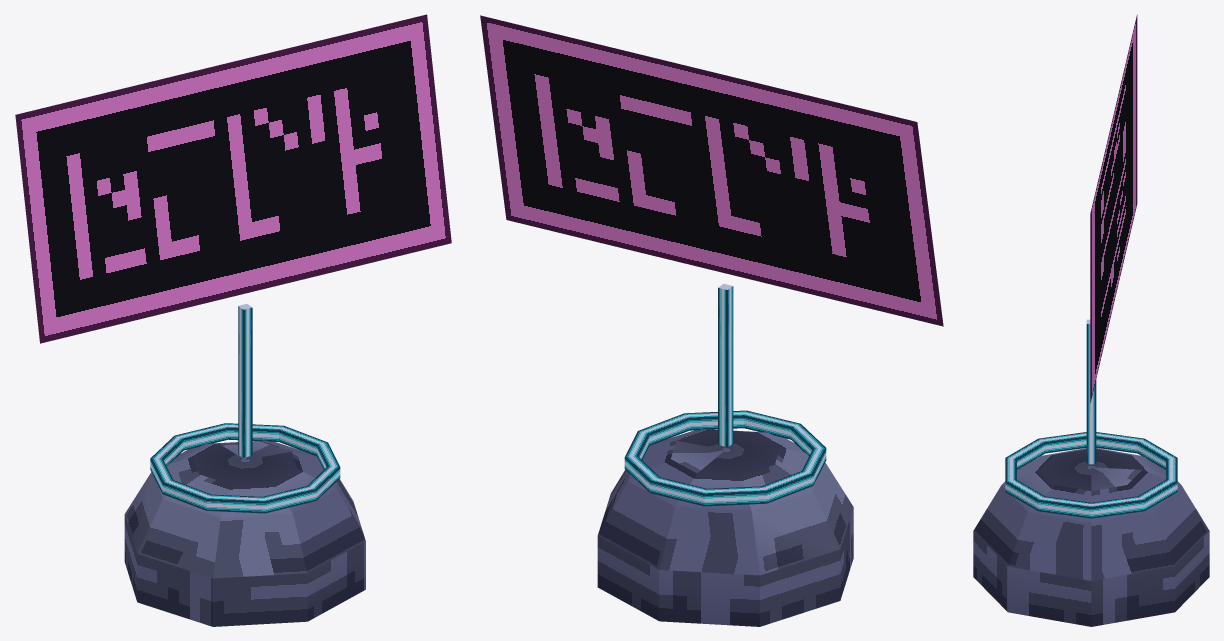
The model's file is cysign.holo.glb.
3 renders of one model, left to right at view 1: azimuth 30°, elevation 25°; view 2: azimuth 150°, elevation 25°; view 3: azimuth 270°, elevation 25°, orthographic. The views are drawn at different scales.
Parts seen in each view (by area): view 1: kit_card_card, kit_projector, kit_shaft; view 2: kit_card_card, kit_projector, kit_shaft; view 3: kit_projector, kit_card_card, kit_shaft.
Boxes of the visible parts, x1=… form: kit_card_card: x1=15, y1=14, x2=451, y2=343; kit_projector: x1=124, y1=440, x2=365, y2=626; kit_shaft: x1=150, y1=304, x2=340, y2=513; kit_card_card: x1=480, y1=15, x2=943, y2=326; kit_projector: x1=597, y1=429, x2=853, y2=626; kit_shaft: x1=624, y1=283, x2=826, y2=506; kit_projector: x1=973, y1=448, x2=1209, y2=626; kit_card_card: x1=1090, y1=14, x2=1137, y2=403; kit_shaft: x1=1005, y1=319, x2=1177, y2=518.
Bounding box in the file's own units: 1.6 × 1.83 × 0.84.
3 materials, 3 textured.
